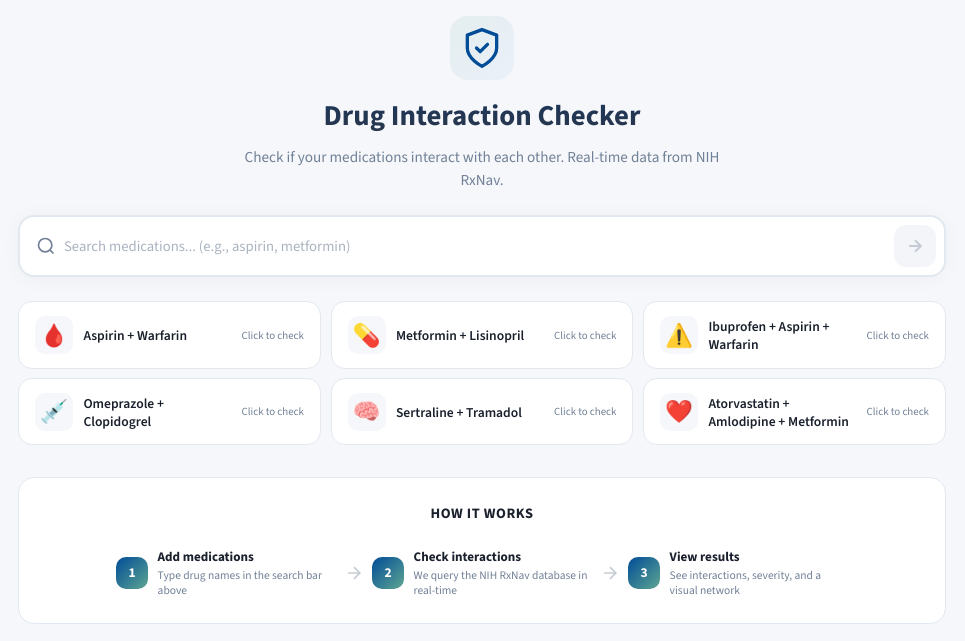
Test: DrugInteractionPage › shows autocomplete suggestions when typing
The image size is (965, 641).
Type "asp" into the field with placeholder "Search medications... (e.g., aspirin, metformin)". click: x=479, y=246
box: x1=64 y1=232 x2=894 y2=261
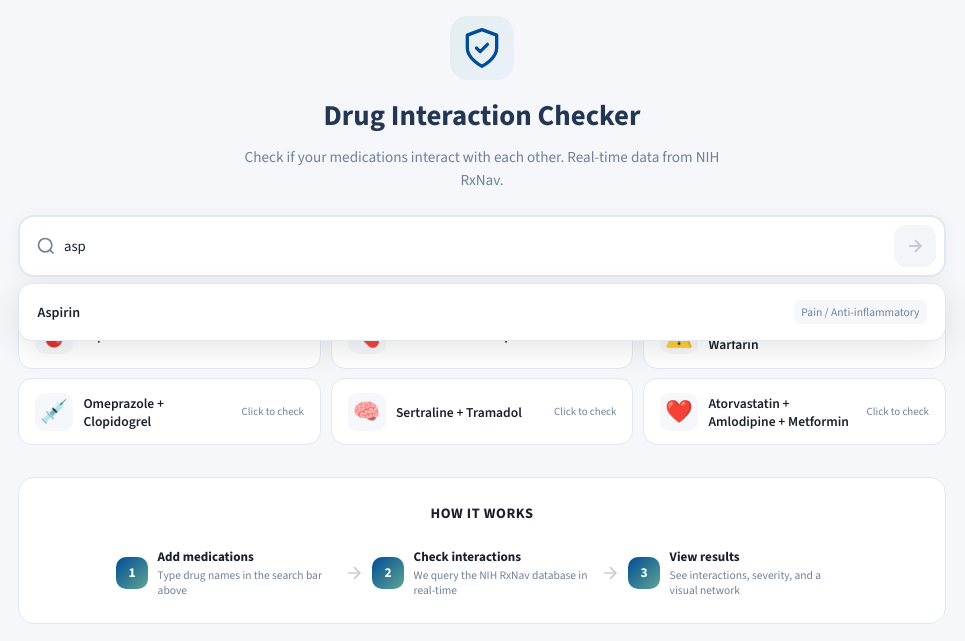
Result: the text "aspirin" is shown at x1=37 y1=301 x2=80 y2=324
Result: the text "Pain / Anti-inflammatory" is shown at x1=794 y1=300 x2=927 y2=324
